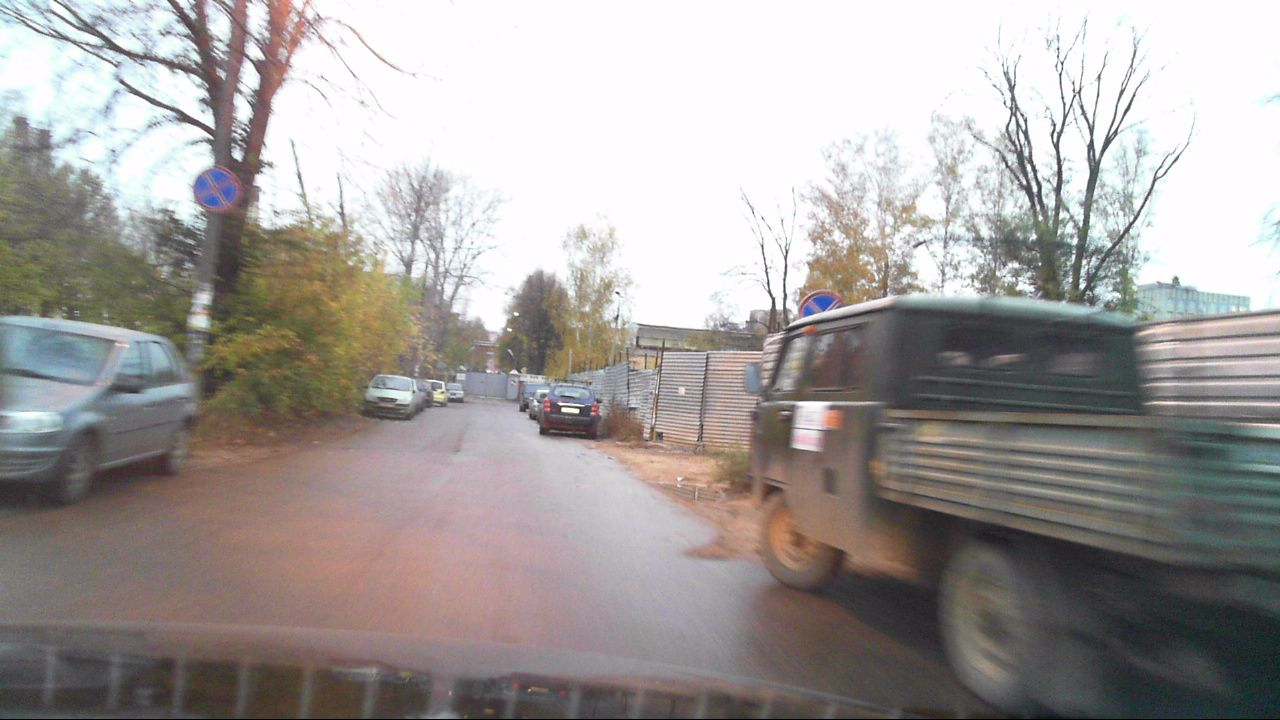No Parking: (798, 290, 847, 341)
